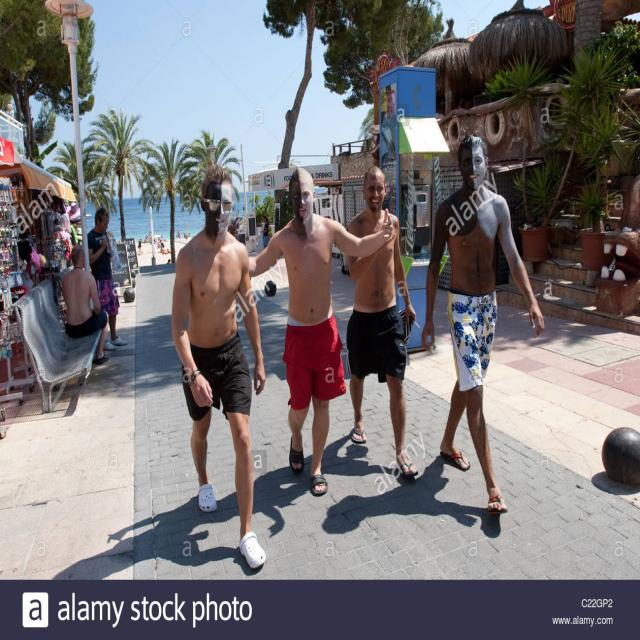body: (46, 427, 530, 582), (420, 130, 548, 520), (249, 167, 394, 496), (167, 153, 271, 573), (342, 163, 422, 482), (54, 241, 112, 367), (86, 206, 128, 352), (138, 228, 192, 266), (226, 218, 238, 255), (259, 215, 270, 249)
